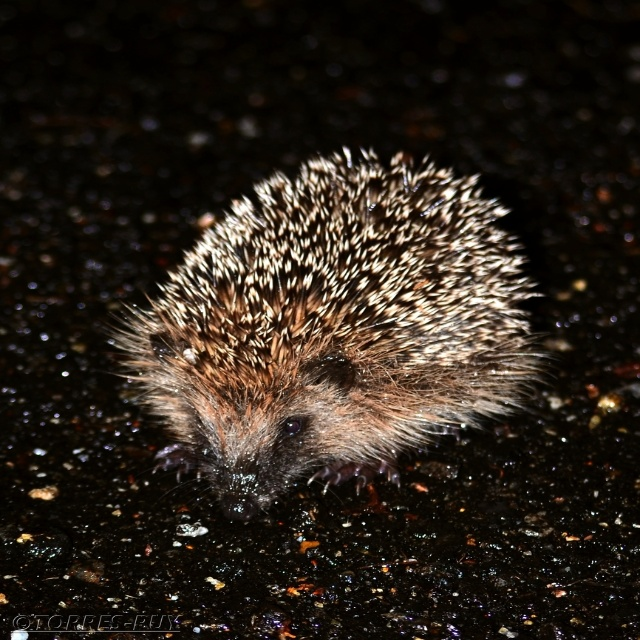Hedgehog: (100, 145, 560, 530)
